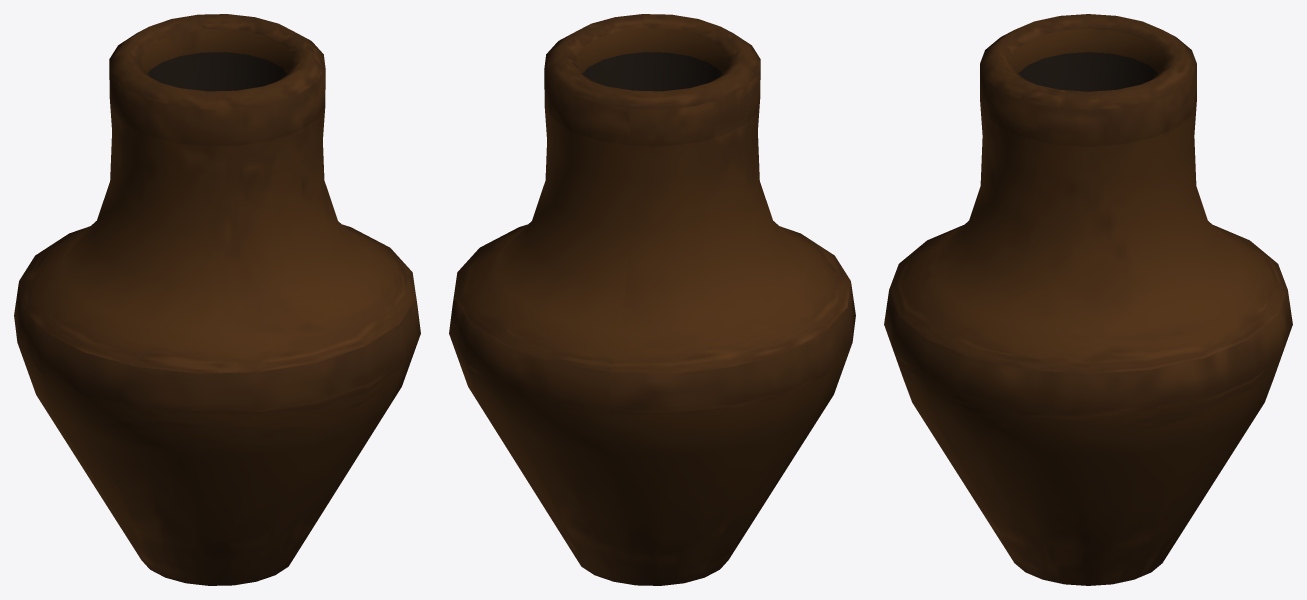
File: Vase_4.glb
3 views of the same model, side by side, from view 1: azimuth 30°, elevation 25°; view 2: azimuth 150°, elevation 25°; view 3: azimuth 270°, elevation 25° (orthographic).
Parts seen in each view (by area): view 1: Vase_4; view 2: Vase_4; view 3: Vase_4.
Part boxes in pixels (x1,y1,x2,y2): Vase_4: [14, 14, 420, 585]; Vase_4: [449, 14, 855, 585]; Vase_4: [884, 14, 1292, 585].
Bounding box in the file's own units: 0.3596 × 0.4855 × 0.3596.
Materials: 1 (1 with a texture image).
